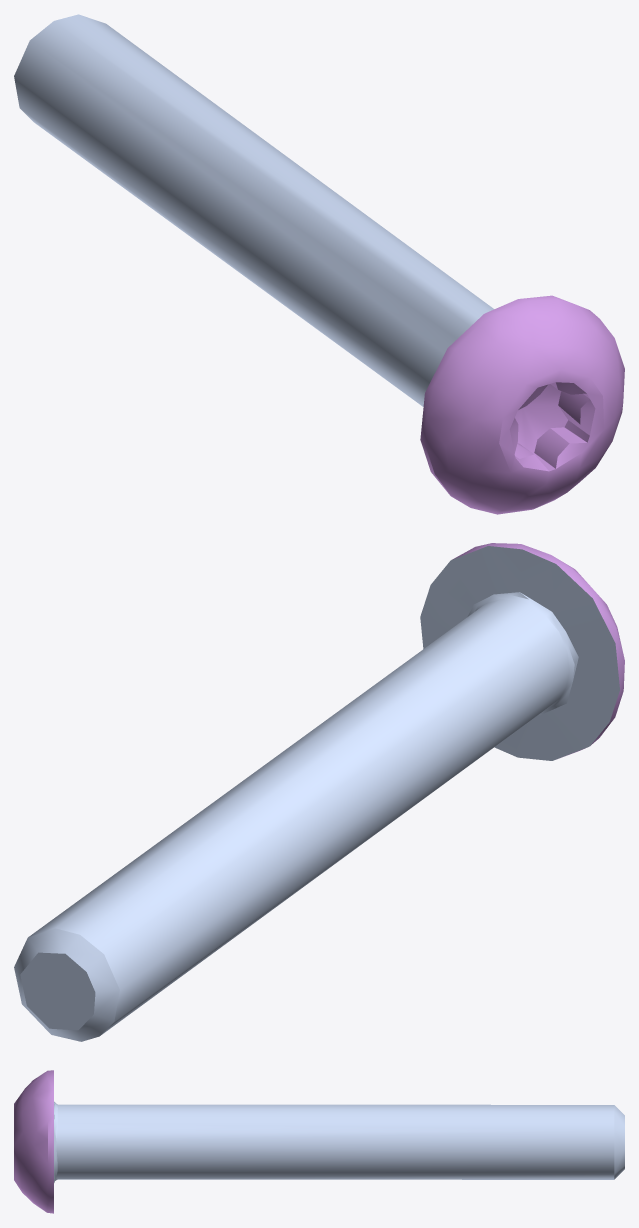
Rendered from Colored__8-32_x_1_250_Star_Drive_Screw__276-4997__001.glb.
3 renders of one model, top to bottom at view 1: azimuth 30°, elevation 25°; view 2: azimuth 150°, elevation 25°; view 3: azimuth 270°, elevation 25°, orthographic. The views are drawn at different scales.
Visible parts, largest first — view 1: Colored #8-32 x 1.250 Star Drive Screw (276-4997).001; view 2: Colored #8-32 x 1.250 Star Drive Screw (276-4997).001; view 3: Colored #8-32 x 1.250 Star Drive Screw (276-4997).001.
Boxes of the visible parts, bbox=[...] form: Colored #8-32 x 1.250 Star Drive Screw (276-4997).001: bbox=[14, 14, 624, 514]; Colored #8-32 x 1.250 Star Drive Screw (276-4997).001: bbox=[14, 543, 624, 1041]; Colored #8-32 x 1.250 Star Drive Screw (276-4997).001: bbox=[14, 1070, 624, 1213].
Bounding box in the file's own units: 0.3123 × 0.3131 × 1.34.
